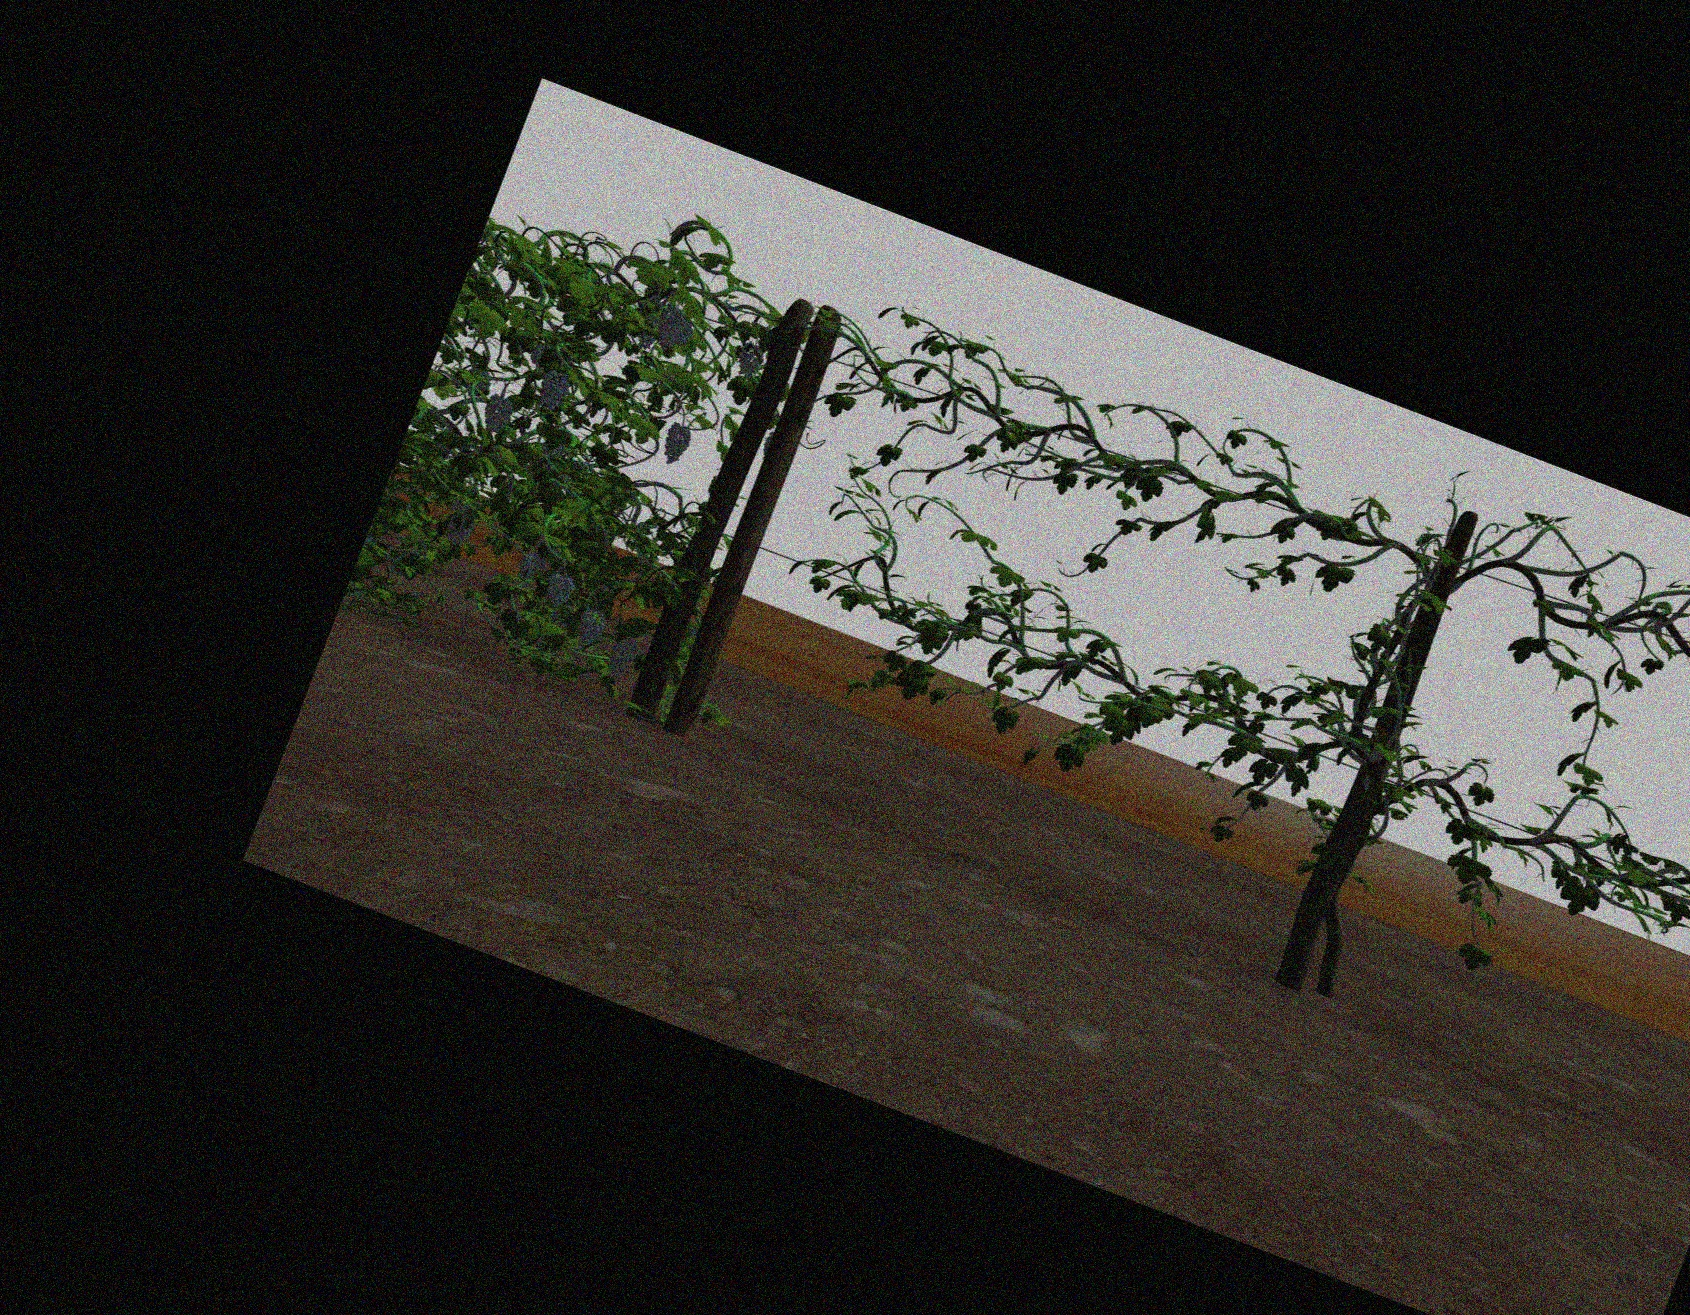grape: (654, 309, 691, 352), (538, 370, 567, 411), (573, 609, 602, 649), (483, 394, 512, 433), (545, 570, 572, 607), (663, 422, 687, 463), (608, 636, 632, 675), (737, 343, 761, 378), (519, 547, 545, 579), (449, 516, 472, 544)
